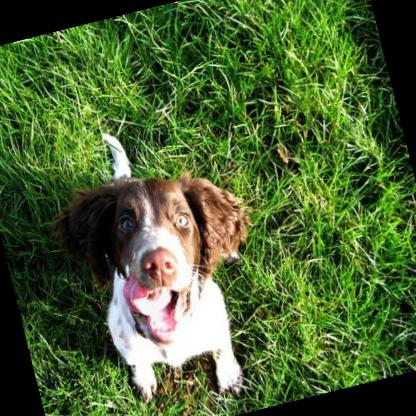English_springer: (30, 103, 293, 416)
